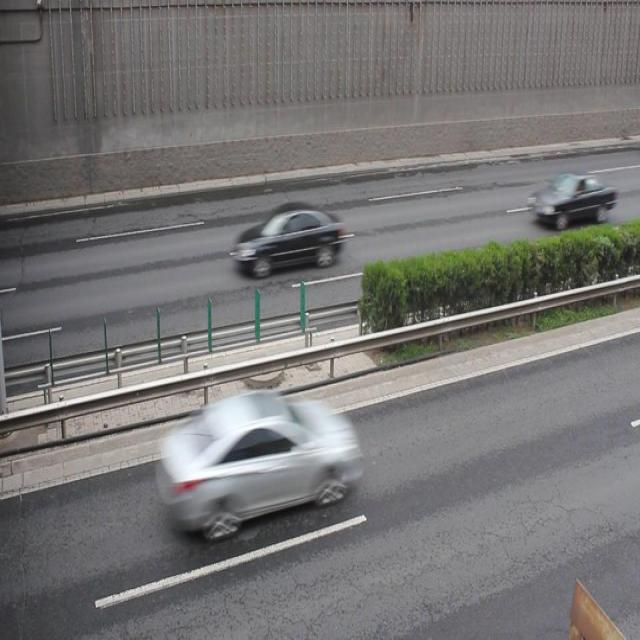car: (158, 396, 362, 538), (233, 204, 344, 276), (527, 170, 614, 228)
